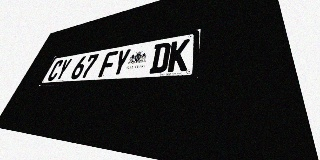6: (69, 55, 89, 80)
7: (79, 54, 99, 79)
C: (46, 60, 64, 81)
D: (149, 42, 171, 74)
F: (98, 51, 119, 77)
K: (167, 39, 190, 72)
Y: (110, 48, 132, 77), (54, 58, 73, 81)
